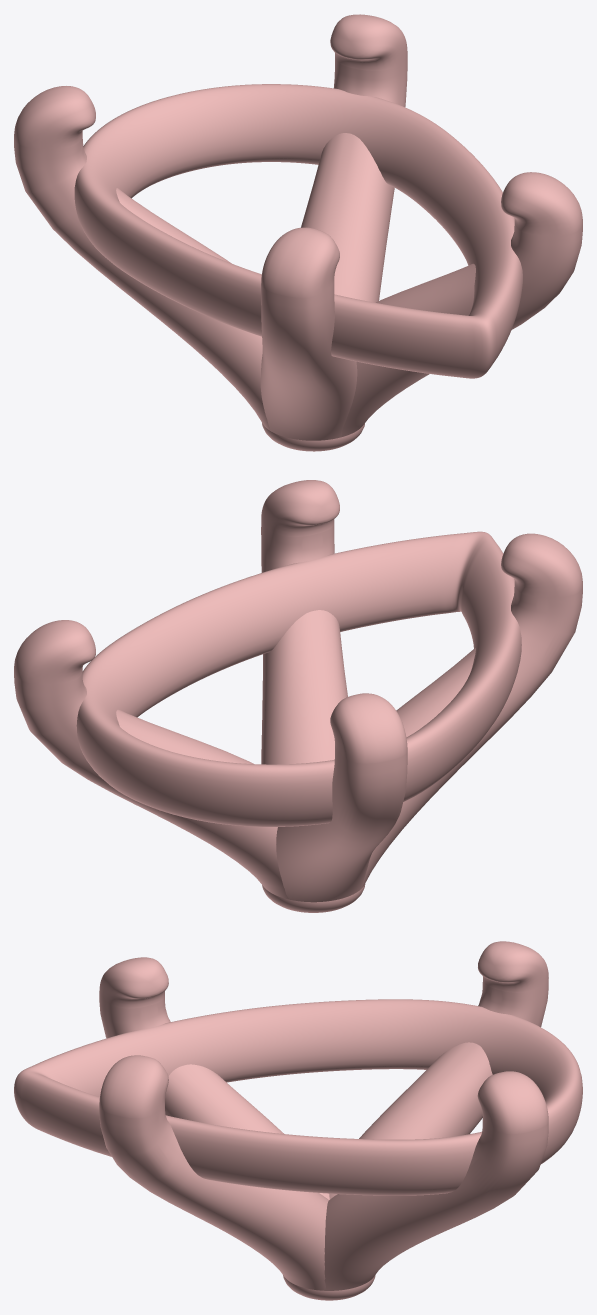
Rendered from PEAR.glb.
3 views of the same model, one above another, from view 1: azimuth 30°, elevation 25°; view 2: azimuth 150°, elevation 25°; view 3: azimuth 270°, elevation 25° (orthographic). The views are drawn at different scales.
Parts seen in each view (by area): view 1: pear; view 2: pear; view 3: pear.
Boxes of the visible parts, left/top/right/bottom form: pear: left=14, top=14, right=582, bottom=451; pear: left=14, top=480, right=582, bottom=912; pear: left=14, top=941, right=582, bottom=1300.
Bounding box in the file's own units: 5.57 × 4.3 × 7.91.
